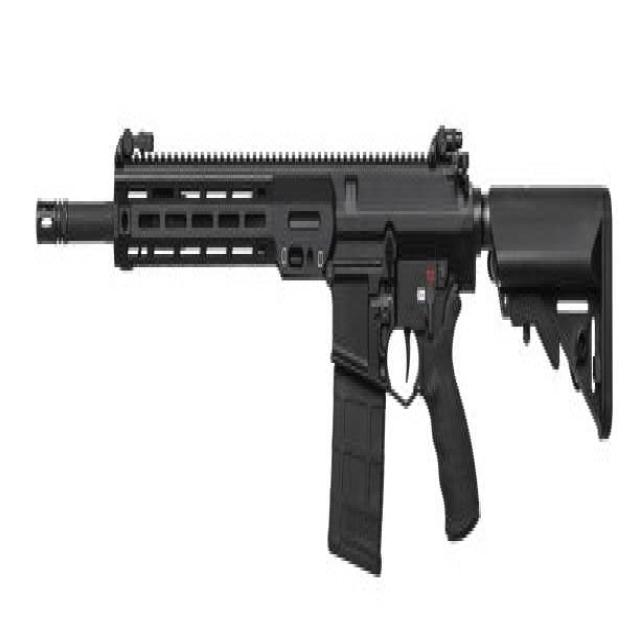rifle: (33, 120, 619, 582)
